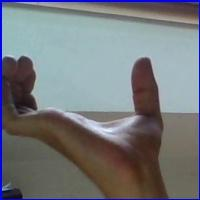B: (0, 42, 172, 181)
